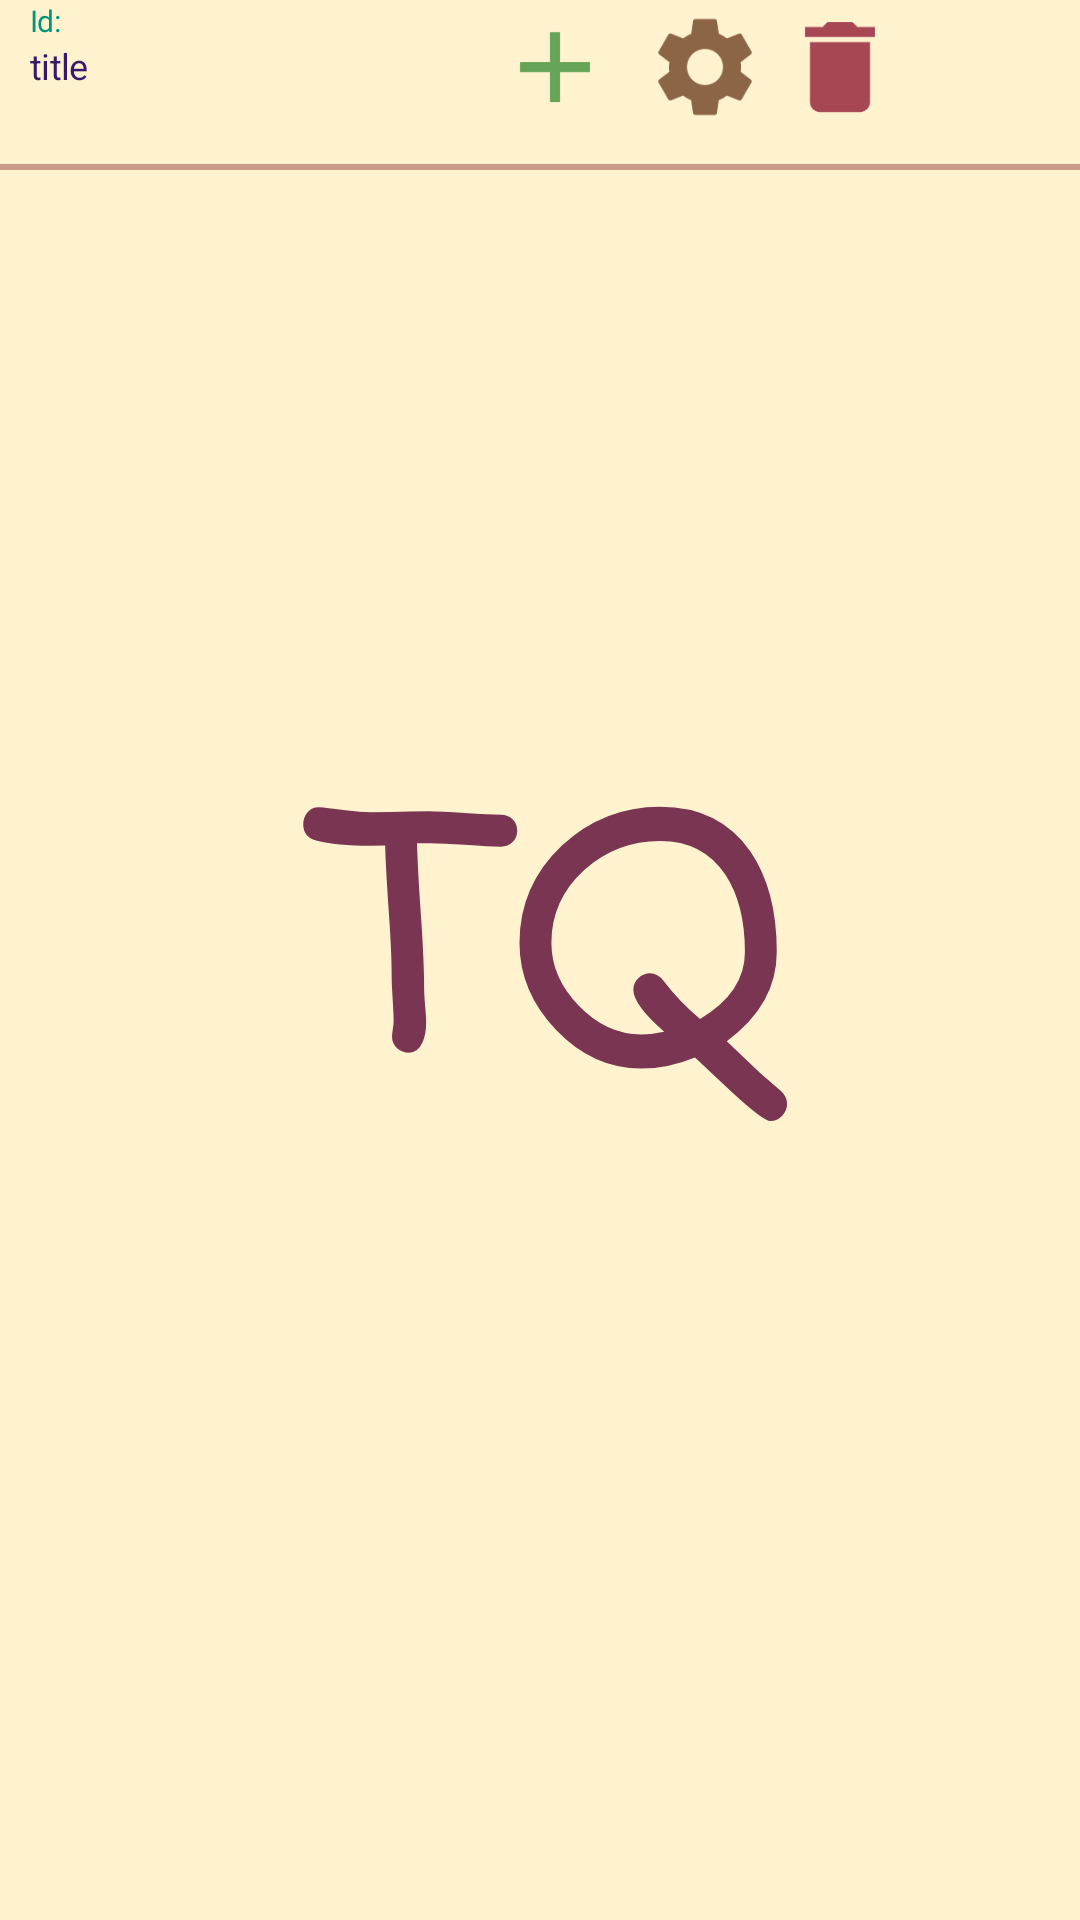

Icons on this 1080×1920 Android screen, each with its box as [x1, y1, x2, y2]:
delete: [805, 22, 875, 113]
settings: [658, 18, 752, 116]
